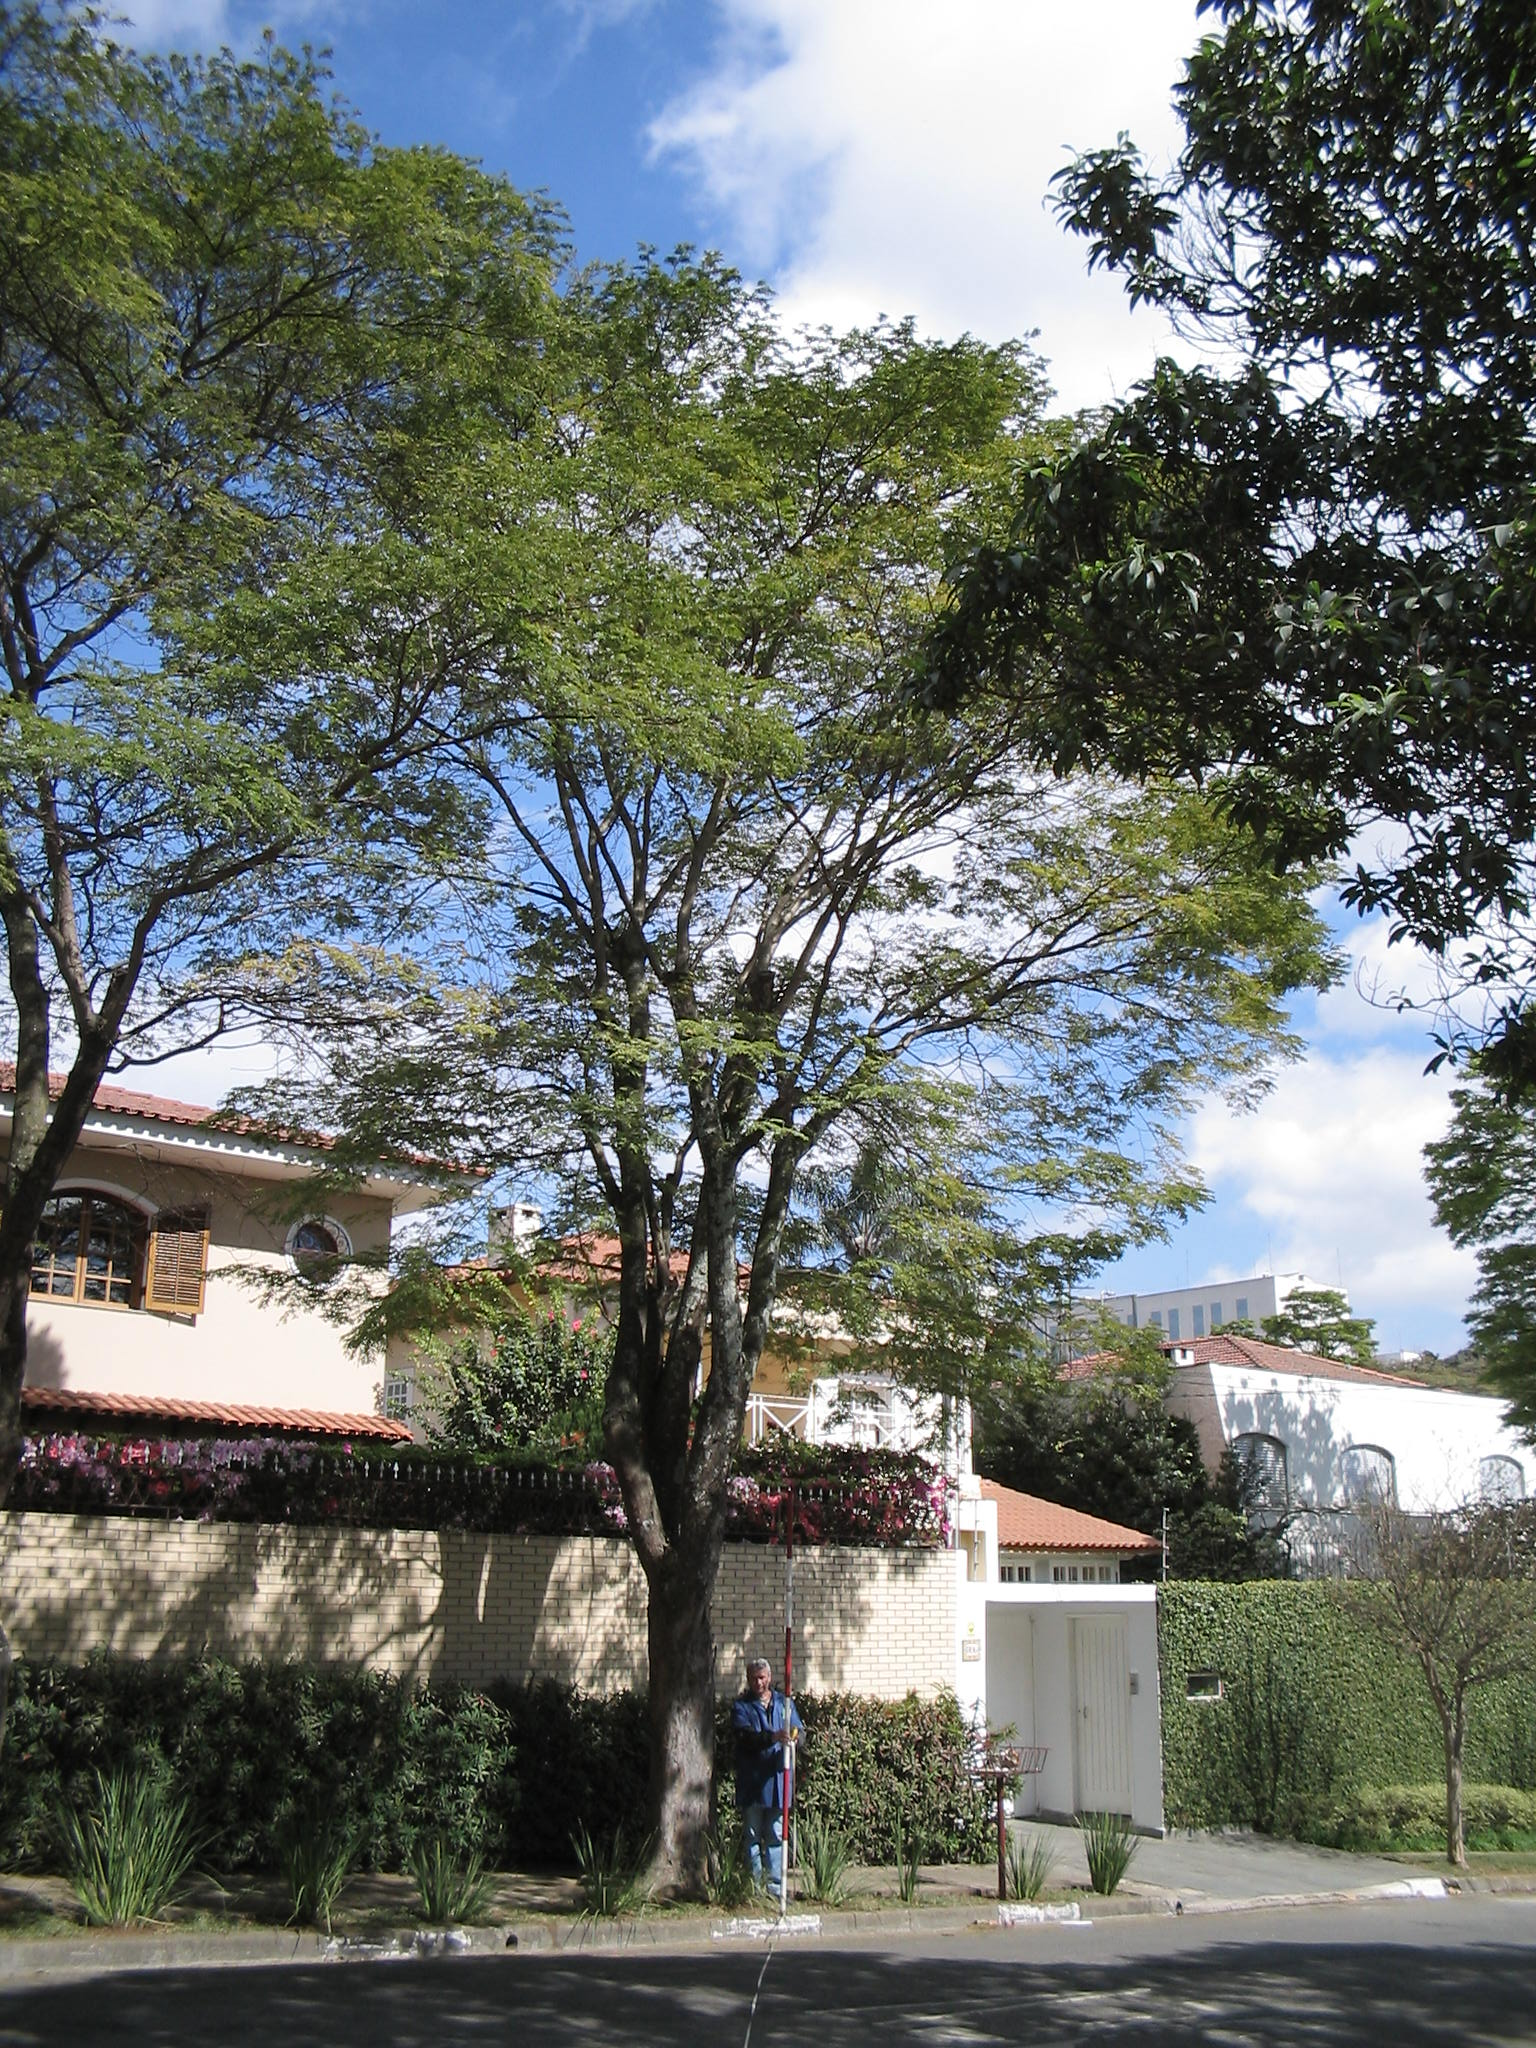crown: (195, 256, 1338, 1369)
stem: (608, 1576, 745, 1911)
stick: (766, 1482, 812, 1919)
tree: (192, 252, 1354, 1919)
